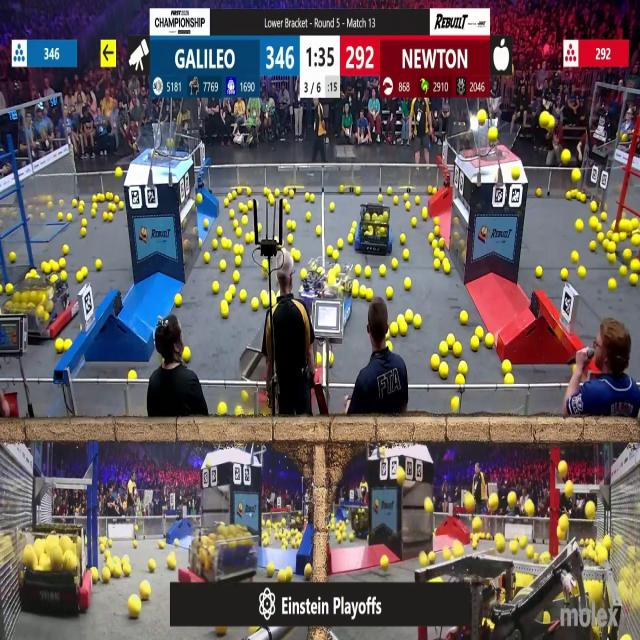ball_airborne: (464, 493, 474, 513), (586, 501, 596, 518), (489, 494, 498, 512), (559, 516, 569, 532), (524, 500, 534, 514), (488, 129, 498, 142), (559, 460, 567, 476), (565, 483, 573, 498), (396, 467, 404, 482), (539, 112, 547, 126), (510, 492, 518, 506), (479, 110, 487, 123), (562, 149, 570, 162), (572, 170, 580, 182), (631, 262, 639, 274), (513, 167, 521, 179), (590, 217, 598, 228), (547, 114, 553, 128), (608, 242, 615, 252), (168, 139, 175, 149), (380, 447, 386, 457)
ball_ground: (130, 596, 142, 618), (140, 583, 150, 601), (278, 568, 289, 582), (453, 541, 463, 556), (496, 535, 505, 551), (424, 498, 434, 512), (485, 335, 494, 349), (430, 355, 439, 369), (182, 347, 190, 362), (216, 625, 226, 637), (305, 564, 313, 578), (169, 556, 177, 570), (441, 363, 449, 377), (268, 562, 276, 576), (218, 404, 226, 418), (220, 305, 228, 319), (526, 544, 534, 558), (398, 322, 407, 334), (630, 274, 639, 286), (414, 315, 422, 328), (459, 361, 467, 374), (454, 344, 462, 357), (57, 340, 65, 353), (420, 554, 428, 567), (102, 569, 110, 582), (472, 518, 480, 531), (452, 397, 459, 411), (390, 322, 397, 336), (502, 360, 510, 372), (608, 278, 616, 290), (354, 266, 362, 278), (577, 268, 585, 280), (470, 339, 478, 351), (381, 557, 389, 569), (114, 565, 122, 577), (263, 294, 271, 306), (54, 261, 62, 273), (441, 343, 448, 356), (460, 312, 467, 325), (504, 374, 512, 385), (444, 550, 452, 561), (511, 541, 519, 552), (175, 293, 182, 305), (380, 266, 387, 278), (234, 272, 241, 284), (621, 266, 628, 278), (352, 285, 359, 297), (93, 568, 99, 582), (212, 282, 219, 294), (291, 248, 298, 260), (358, 286, 365, 298), (130, 368, 138, 378), (607, 252, 615, 262), (220, 239, 228, 249), (41, 264, 49, 274), (4, 284, 12, 294), (607, 232, 615, 242), (219, 261, 226, 272), (444, 264, 451, 275), (122, 564, 129, 575), (403, 279, 410, 290), (365, 289, 372, 300), (240, 290, 247, 301), (406, 311, 413, 322), (591, 202, 598, 213), (572, 250, 578, 262), (392, 260, 398, 272), (252, 300, 258, 312), (316, 353, 322, 365), (81, 268, 87, 280), (422, 208, 428, 220), (148, 560, 154, 572), (428, 552, 434, 564), (535, 268, 542, 278), (590, 242, 597, 252), (236, 408, 243, 418), (363, 268, 370, 278), (474, 326, 481, 336), (625, 249, 632, 259), (242, 391, 249, 401), (248, 234, 255, 244), (299, 270, 306, 280), (76, 273, 83, 283), (61, 272, 68, 282), (632, 236, 639, 246), (334, 250, 341, 260), (632, 218, 639, 228), (520, 536, 527, 546), (387, 287, 393, 298), (402, 249, 408, 260), (96, 261, 102, 272), (236, 255, 242, 266), (434, 261, 440, 272), (448, 335, 454, 346), (65, 340, 71, 351), (198, 195, 204, 206), (457, 376, 465, 384), (212, 240, 219, 249), (230, 285, 237, 294), (349, 533, 356, 542), (562, 270, 568, 280), (412, 216, 418, 226), (9, 252, 15, 262), (205, 252, 211, 262), (316, 224, 322, 234), (63, 245, 69, 255), (576, 220, 582, 230), (225, 292, 231, 302), (61, 258, 67, 268), (326, 246, 332, 256), (287, 236, 293, 246), (235, 245, 241, 255), (348, 235, 354, 245), (290, 220, 296, 230), (621, 232, 627, 242), (264, 261, 270, 271), (603, 240, 609, 250), (115, 168, 121, 178), (336, 266, 342, 276), (160, 540, 167, 548), (258, 295, 262, 309), (236, 229, 242, 238), (306, 212, 312, 221), (433, 216, 439, 225), (106, 191, 112, 200), (403, 202, 409, 211), (108, 203, 114, 212), (284, 205, 290, 214), (269, 197, 275, 206), (339, 240, 344, 250), (388, 342, 393, 352), (399, 235, 404, 245), (434, 225, 439, 235), (121, 556, 128, 563), (328, 204, 334, 212), (204, 219, 210, 227), (72, 200, 78, 208), (234, 220, 240, 228), (428, 235, 434, 243), (248, 202, 254, 210), (598, 234, 604, 242), (199, 240, 205, 248), (100, 543, 106, 551), (239, 204, 245, 212), (275, 188, 281, 196), (80, 229, 85, 238), (217, 226, 222, 235), (393, 197, 398, 206), (601, 212, 606, 221), (311, 193, 316, 202), (328, 353, 332, 364), (92, 210, 98, 217), (355, 187, 361, 194), (133, 540, 139, 547), (486, 535, 492, 542), (174, 538, 180, 545), (226, 192, 232, 199), (100, 195, 106, 202), (78, 201, 84, 208), (243, 216, 248, 224), (228, 210, 233, 218), (536, 188, 541, 196), (434, 249, 439, 257), (81, 218, 86, 226), (416, 197, 421, 205), (440, 240, 445, 248), (118, 202, 123, 210), (0, 284, 4, 294), (440, 250, 445, 258), (105, 551, 110, 559), (566, 194, 571, 202), (385, 334, 390, 342), (113, 557, 119, 563), (59, 213, 64, 220), (223, 200, 228, 207), (624, 635, 631, 640), (428, 186, 433, 193), (93, 203, 98, 210), (388, 187, 393, 194), (78, 208, 83, 215), (93, 194, 98, 201), (247, 188, 252, 195), (379, 193, 383, 201), (472, 540, 476, 548), (102, 212, 106, 220), (403, 192, 407, 200), (306, 192, 310, 200), (272, 296, 276, 304), (339, 535, 343, 543), (68, 214, 72, 221), (257, 223, 261, 230), (352, 221, 356, 228), (289, 190, 293, 197), (114, 195, 118, 202), (341, 185, 345, 192), (108, 539, 112, 546)
goal: (464, 122, 521, 159), (129, 128, 190, 162)
robot_blue: (354, 202, 390, 255), (350, 508, 370, 540)
robot_red: (26, 524, 91, 614), (184, 525, 260, 586), (14, 272, 76, 341)
